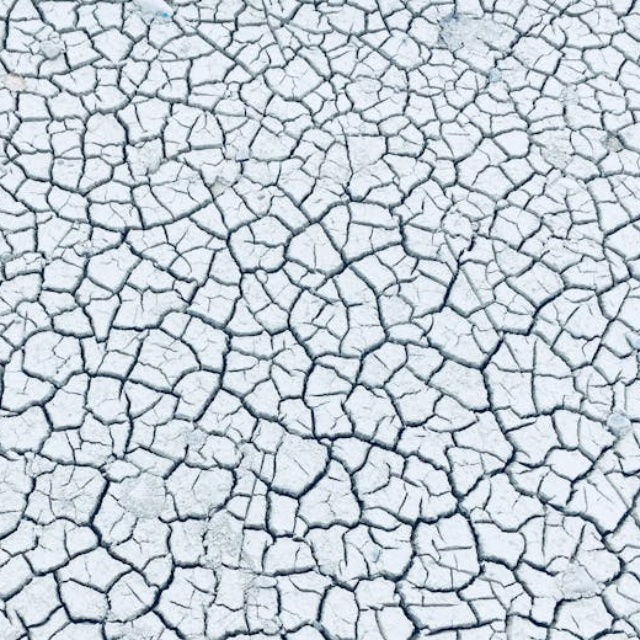网状裂隙: (0, 87, 640, 640), (0, 0, 554, 529), (0, 0, 537, 457)
